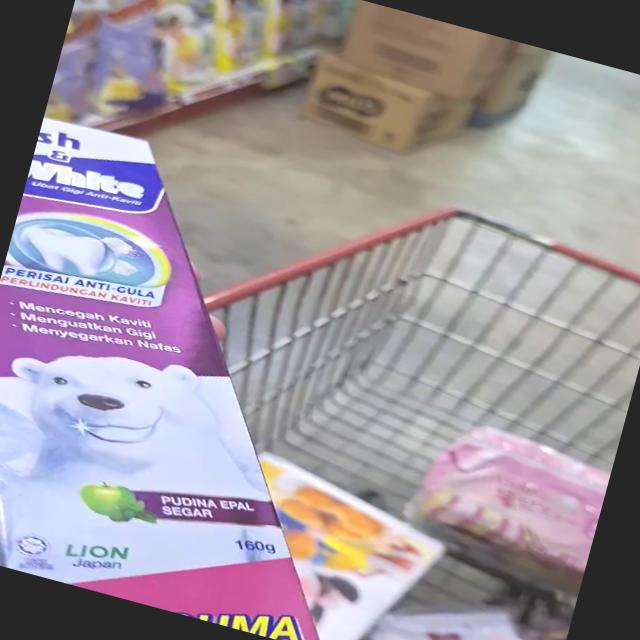Tisu: (254, 463, 461, 640)
Ubat Gigi: (0, 109, 278, 467), (0, 341, 258, 619)
